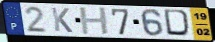2: (24, 5, 48, 33)
6: (140, 8, 165, 38)
7: (110, 7, 130, 36)
D: (163, 9, 194, 39)
H: (78, 7, 111, 36)
K: (50, 6, 74, 34)
